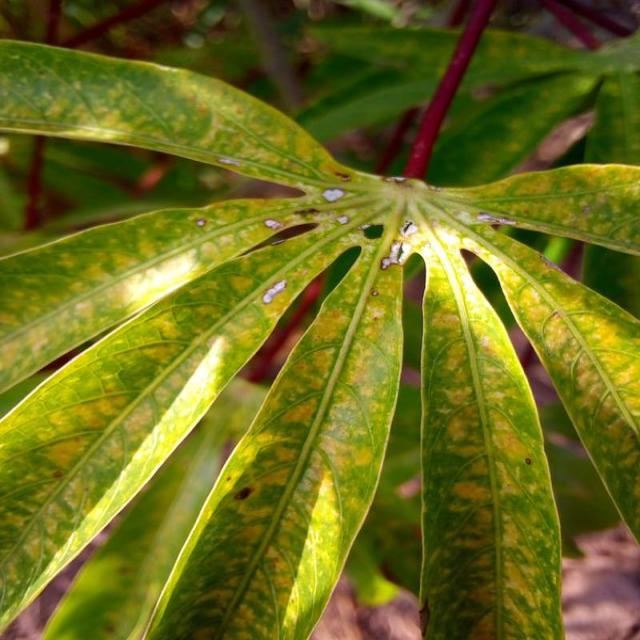cassava leaf: (0, 23, 638, 637), (417, 219, 565, 638)
